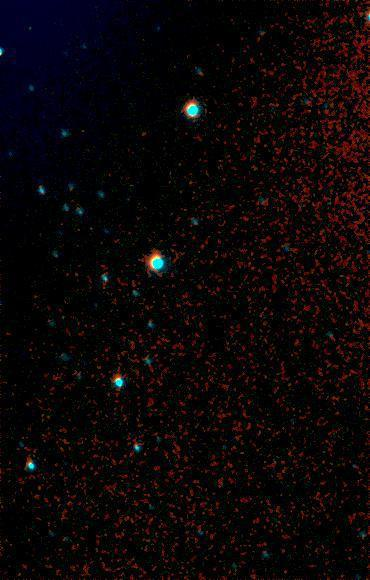star: (129, 118, 159, 148)
